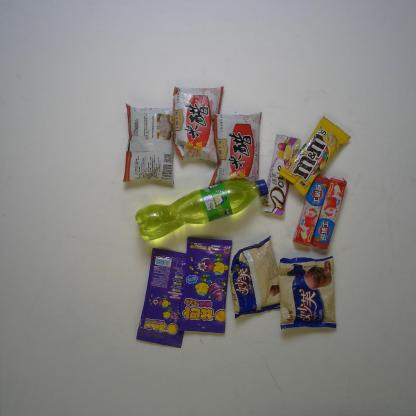Candy: (176, 235, 235, 336), (134, 246, 190, 350), (310, 174, 349, 250), (292, 172, 331, 247)
Chocolate: (277, 113, 354, 198), (259, 132, 302, 218)
Dessert: (274, 254, 340, 331), (227, 234, 283, 321)
Drink: (132, 177, 271, 243)
Seasoner: (120, 102, 177, 187), (168, 81, 226, 164), (208, 109, 263, 189)
